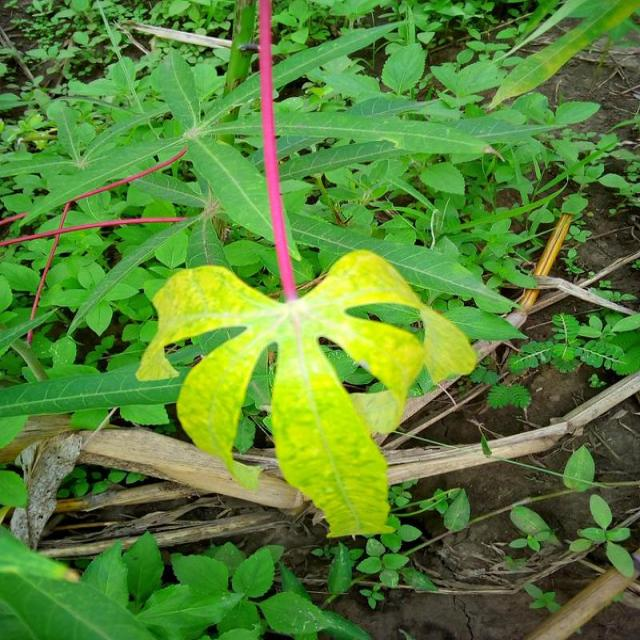cassava leaf: (135, 247, 477, 538)
